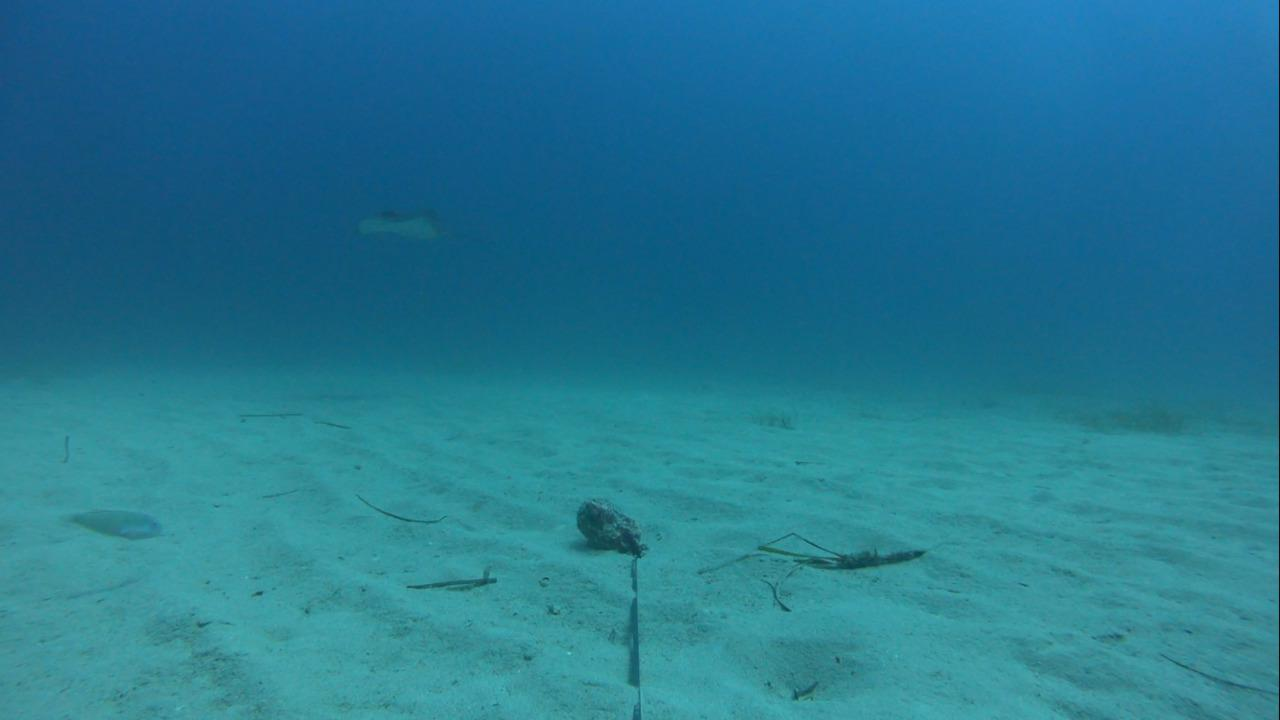myliobatis: (347, 202, 486, 255)
raor: (47, 502, 169, 548)
